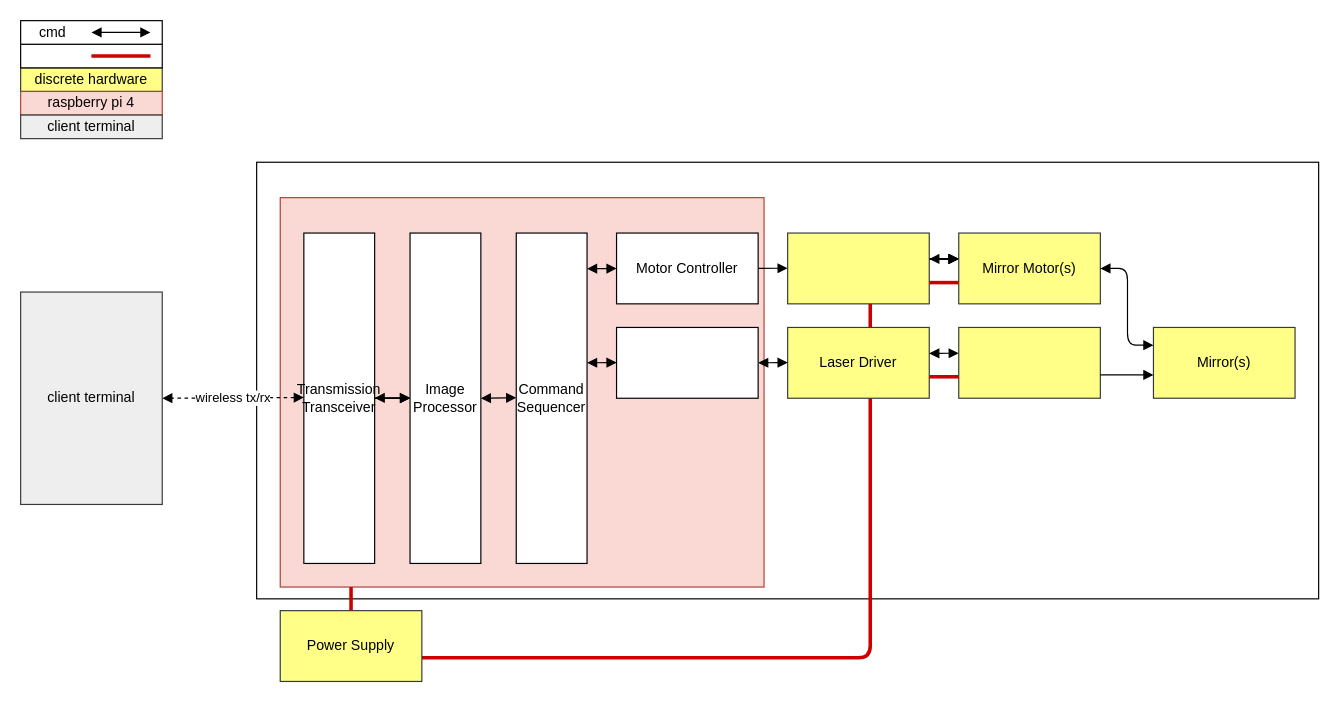
The diagram is 1339 pixels wide and 702 high, and some of its shapes have lost their labels. The shapes that lost their labels are listed below. From the top down, each one's box as (x1, y1, x2, y2) in pixels, then its label:
(19, 43, 162, 68): power
(786, 232, 929, 304): Motor Driver
(615, 326, 758, 398): Laser Controller
(255, 161, 1319, 599): laser projector
(958, 326, 1100, 398): Laser Diode
(279, 196, 764, 587): laser controller (raspbery pi 4)
